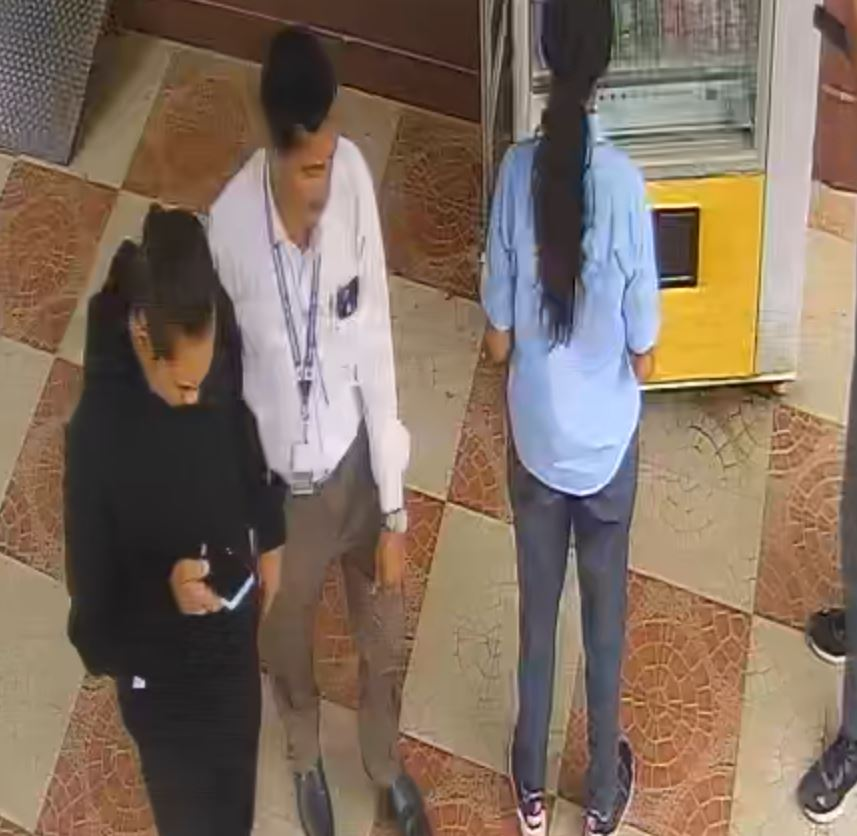intruder: (52, 197, 269, 833)
not intruder: (204, 14, 460, 836)
